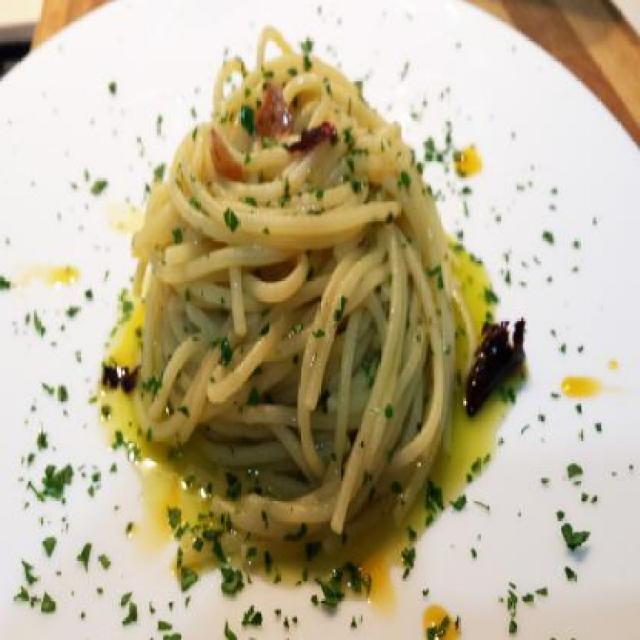Oil pasta: (101, 53, 558, 576)
